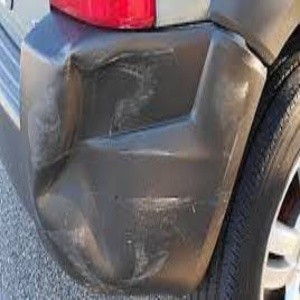bonnet: (37, 5, 156, 78)
